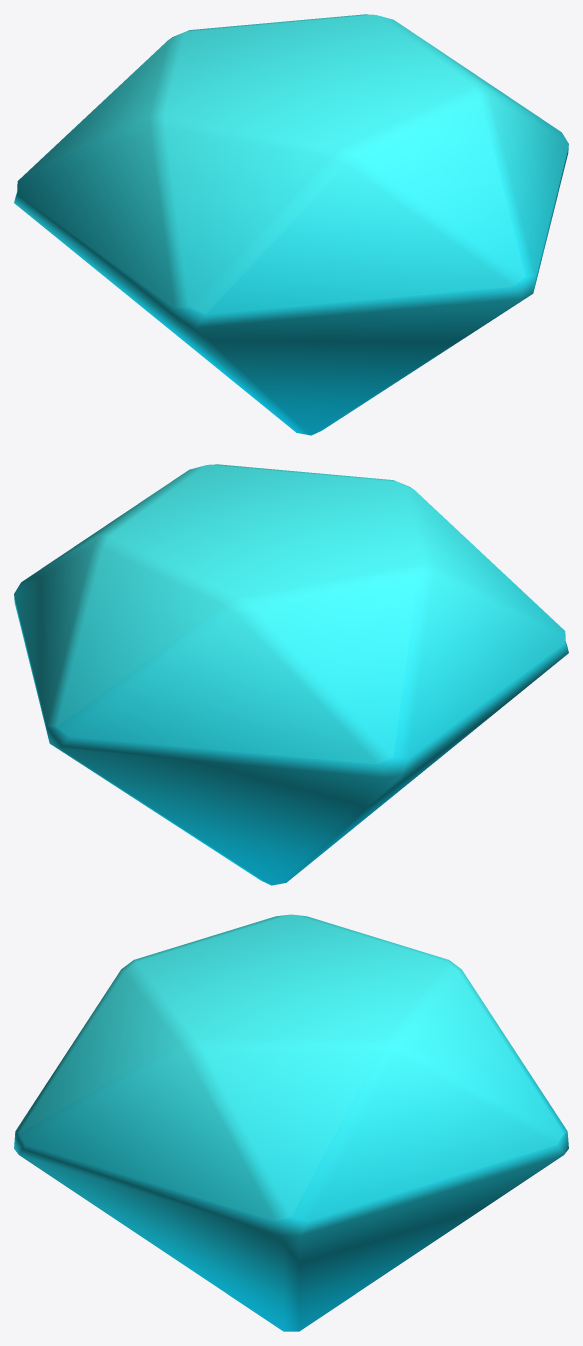
Rendered from Collectable_Diamond_01.fbx.
The picture shows the model from 3 angles, top to bottom: view 1: azimuth 30°, elevation 25°; view 2: azimuth 150°, elevation 25°; view 3: azimuth 270°, elevation 25°; orthographic projection. The views are drawn at different scales.
Parts seen in each view (by area): view 1: Collectable_Diamond_01; view 2: Collectable_Diamond_01; view 3: Collectable_Diamond_01.
Boxes of the visible parts, bbox=[...] form: Collectable_Diamond_01: bbox=[14, 14, 568, 435]; Collectable_Diamond_01: bbox=[14, 464, 568, 885]; Collectable_Diamond_01: bbox=[14, 914, 568, 1331].
Size of the model in its own units: 105 by 75.28 by 110.
